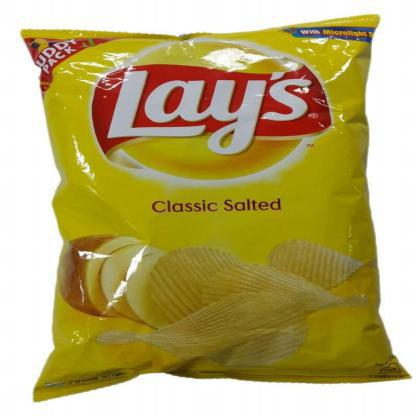classicsalted: (19, 13, 412, 402)
